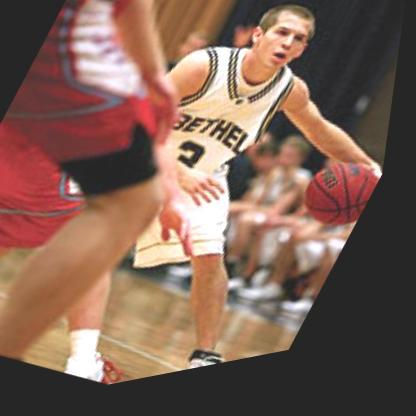basketball: (293, 157, 392, 260)
